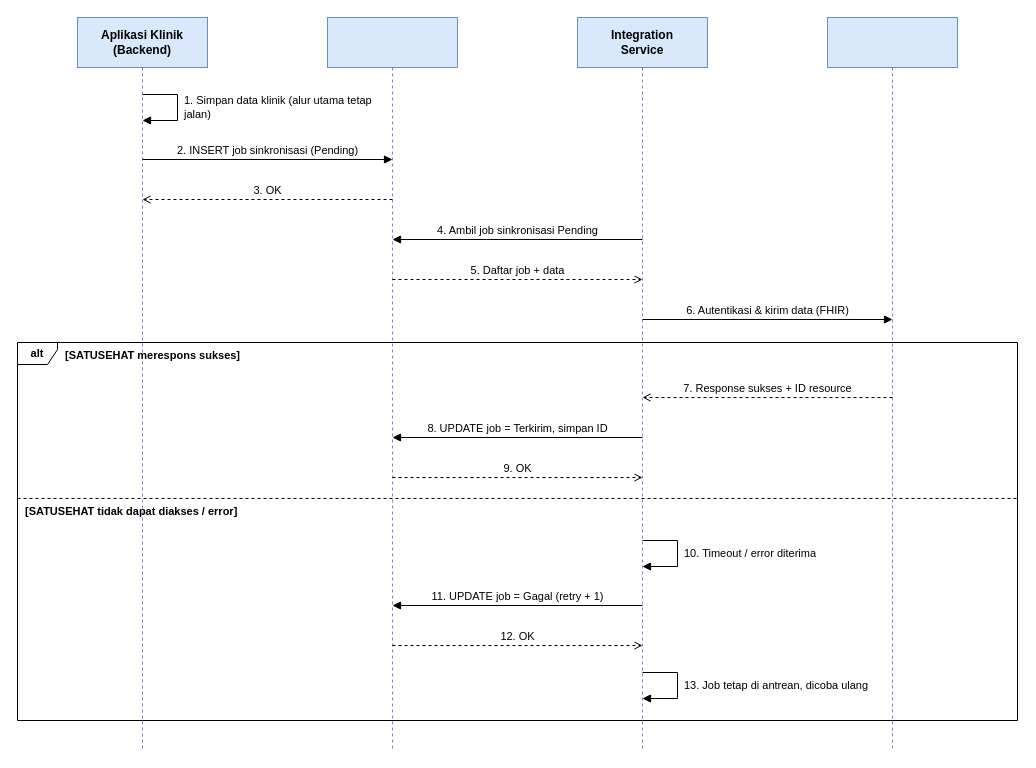
Some shapes in this 1036 by 768 pixel diagram are drawn without their labels. Here are the shapes that lost their labels. From the top down, the box of each, then its label:
(326, 16, 458, 750): Database (termasuk antrean sinkronisasi)
(826, 16, 958, 750): SATUSEHAT Kemenkes
